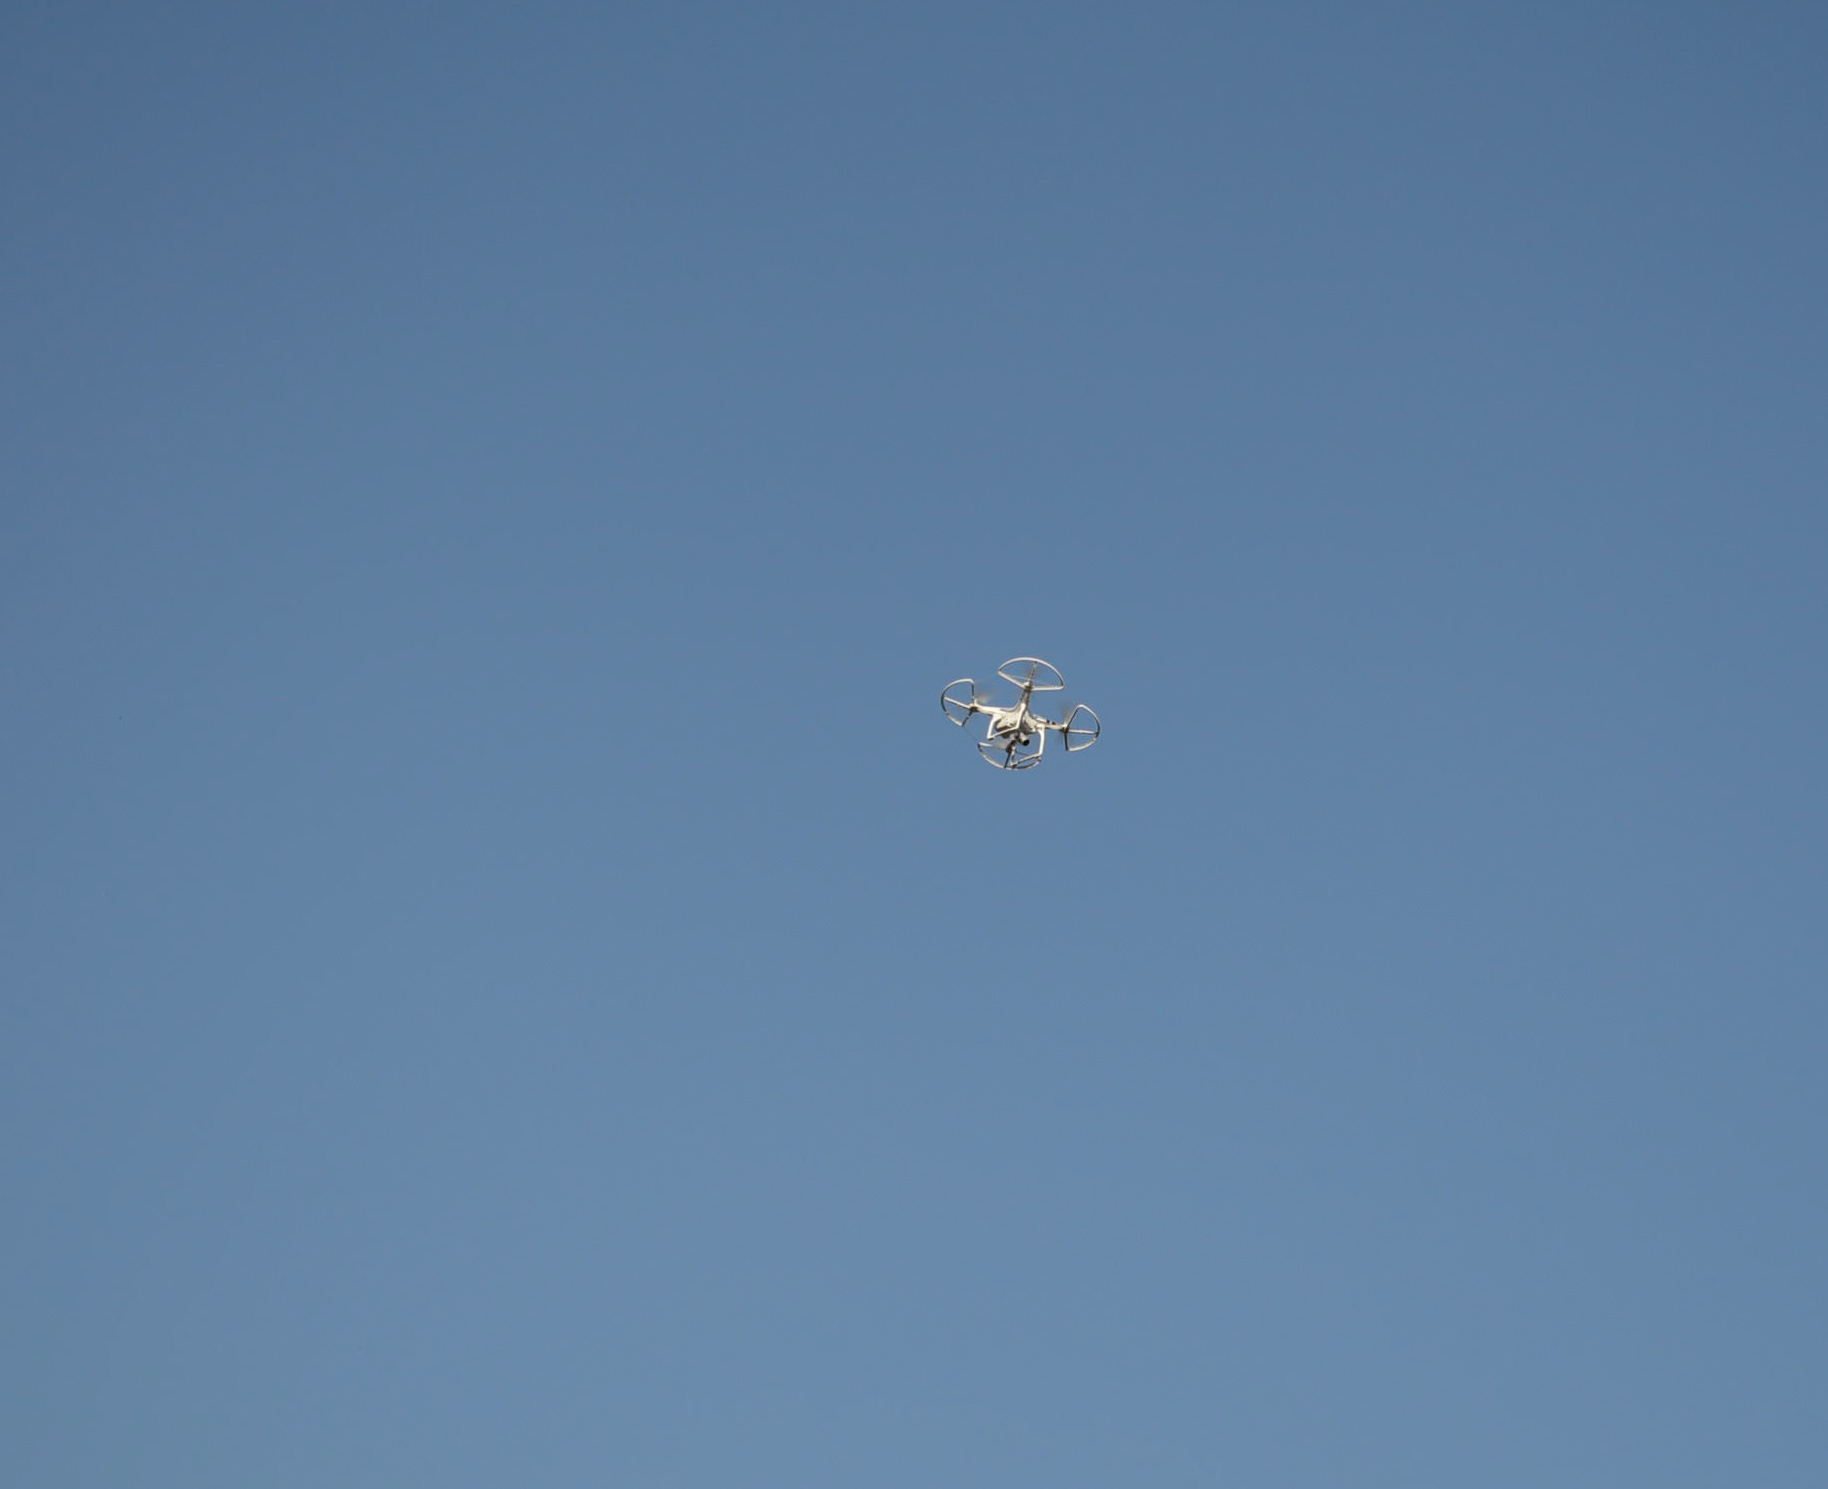DJI: (938, 650, 1102, 776)
